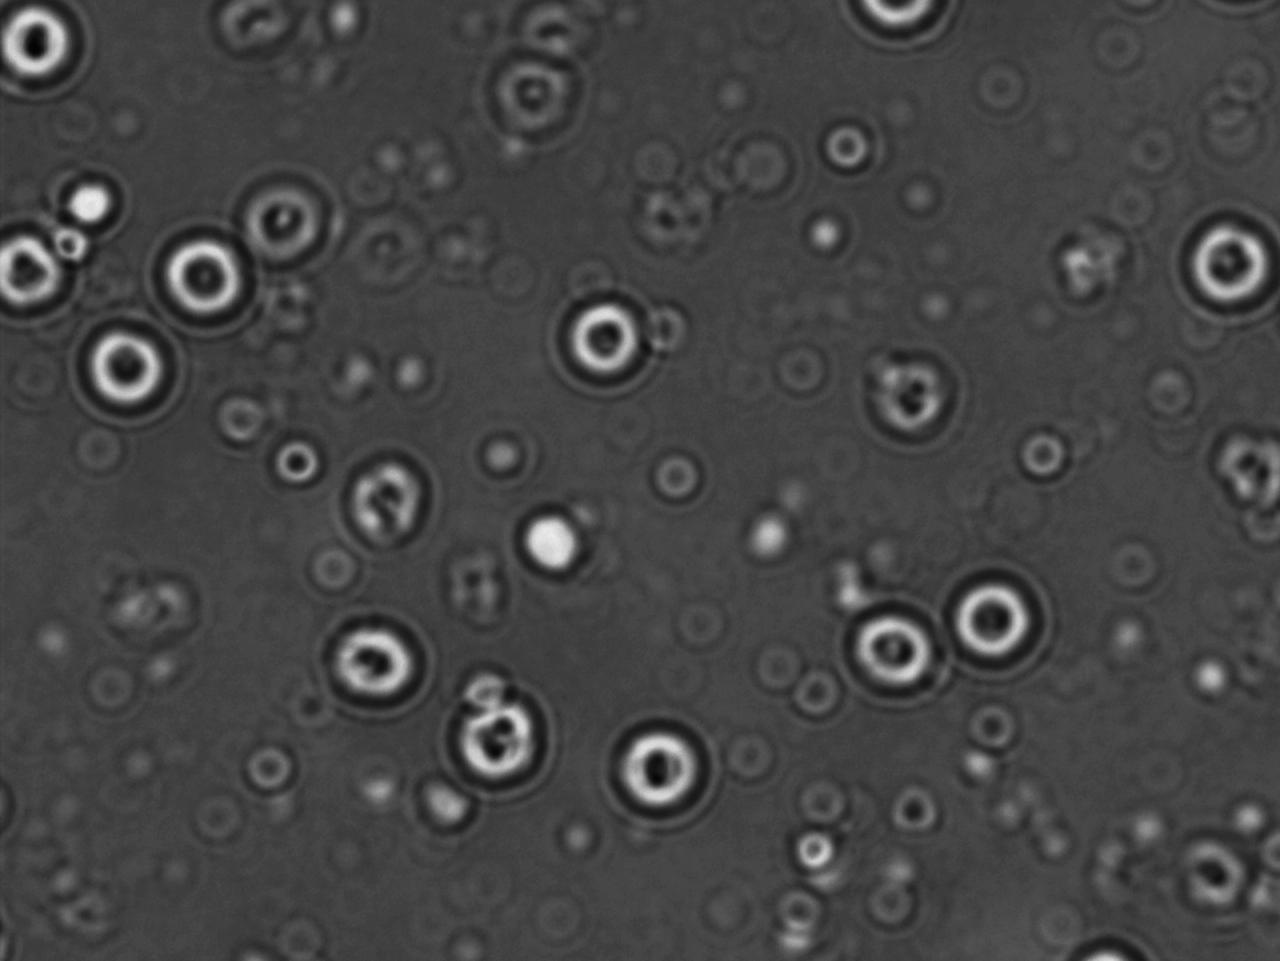depth:8: (596, 701, 726, 834), (58, 309, 192, 438), (835, 588, 961, 723), (431, 679, 567, 802), (539, 280, 663, 406), (930, 558, 1055, 678), (139, 213, 256, 335), (1170, 201, 1280, 326), (318, 603, 429, 721)
